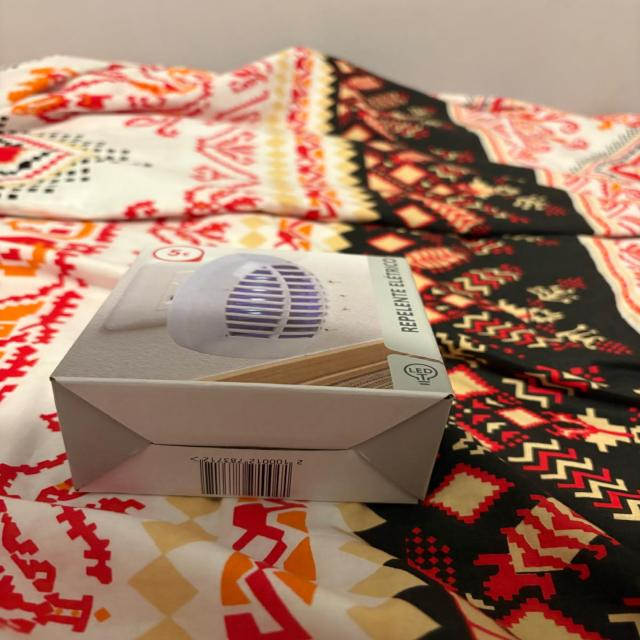good_package: (51, 244, 453, 503)
